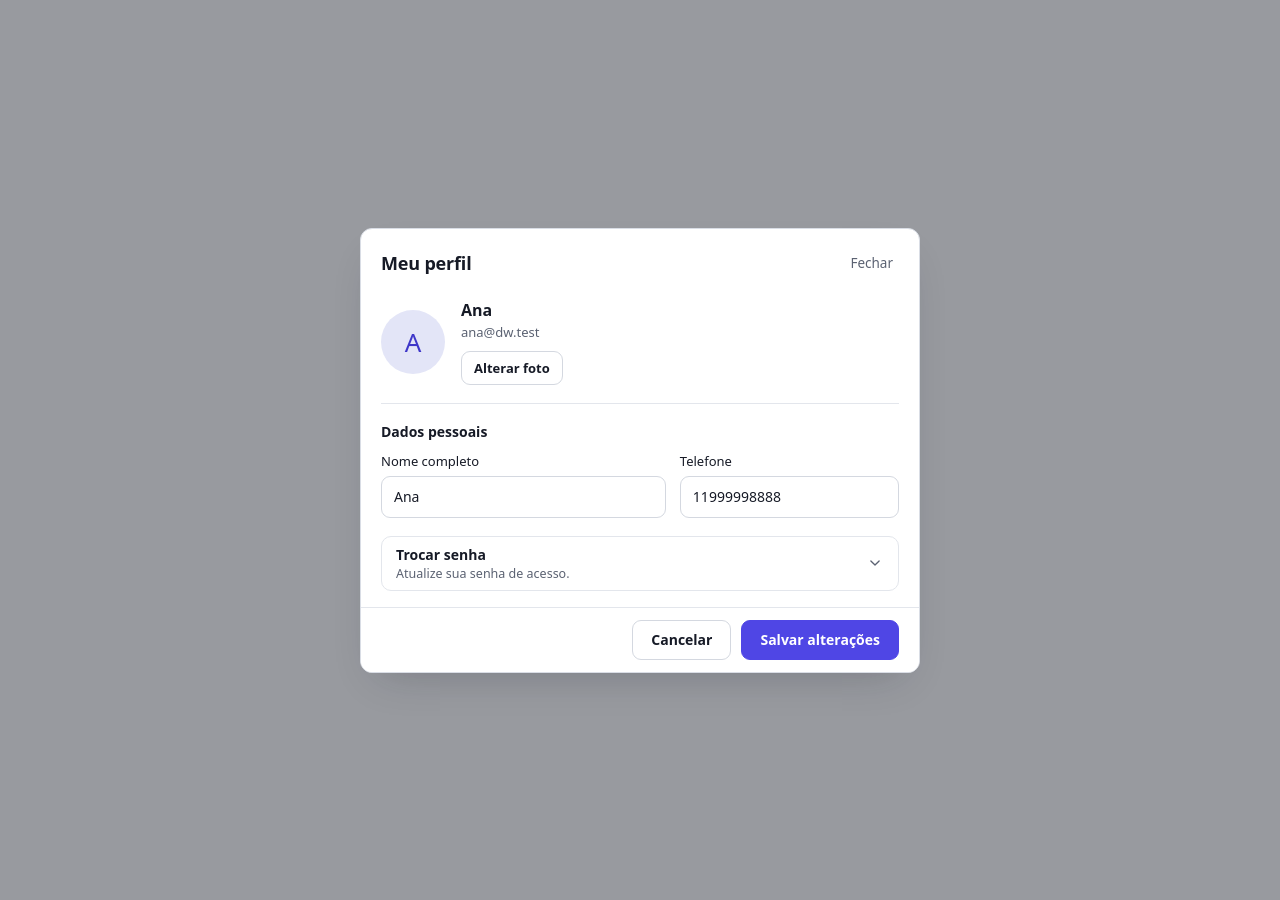
ProfileModal › shows an error when the confirmation password does not match
Expected: the field showing "Ana" is shown, [381,476,666,518]
Click the text "Atualize sua senha de acesso." at (483, 573), box [396,564,570,582]
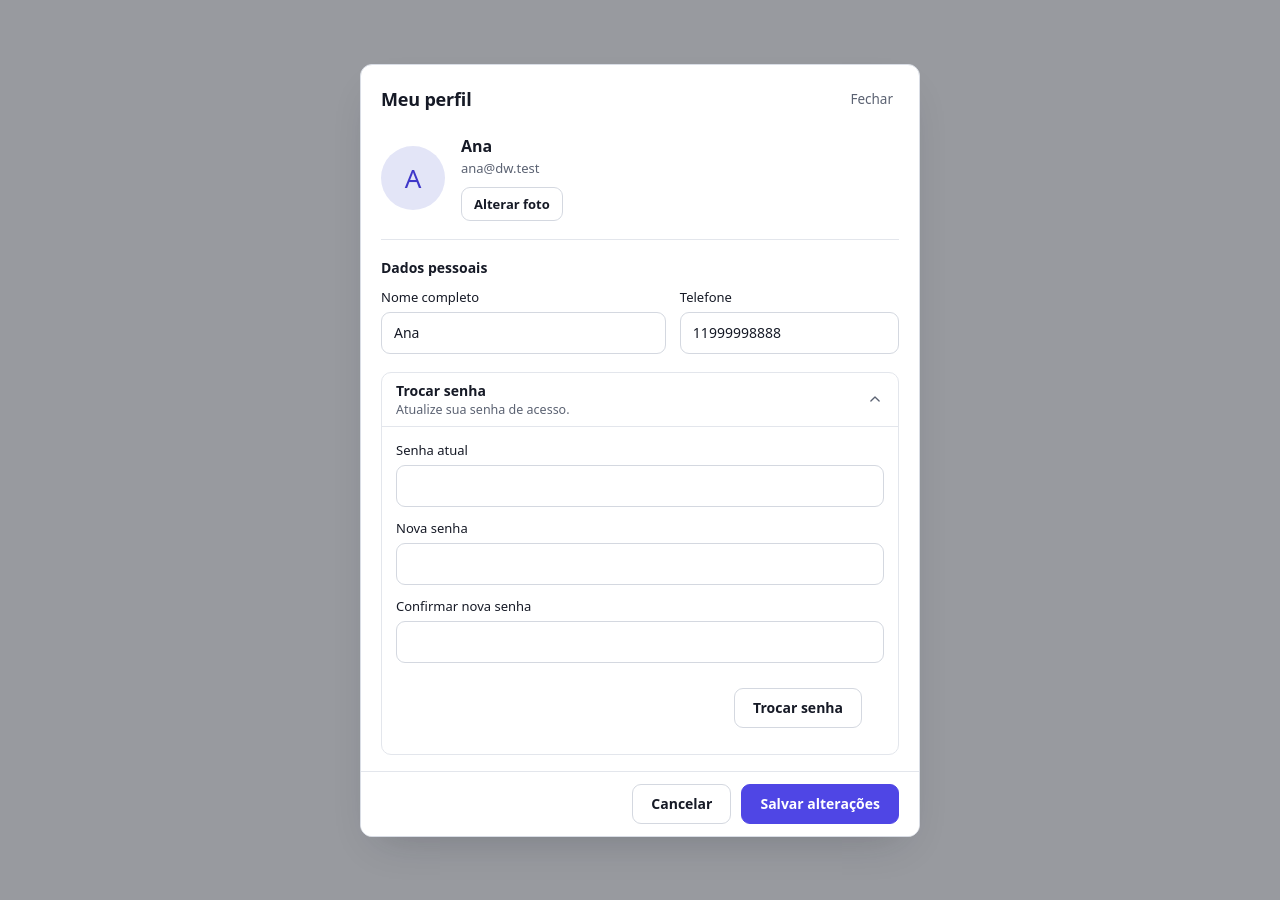
Type "oldpass123" into the password field labelled "Senha atual" at (640, 486), box [396,464,884,506]
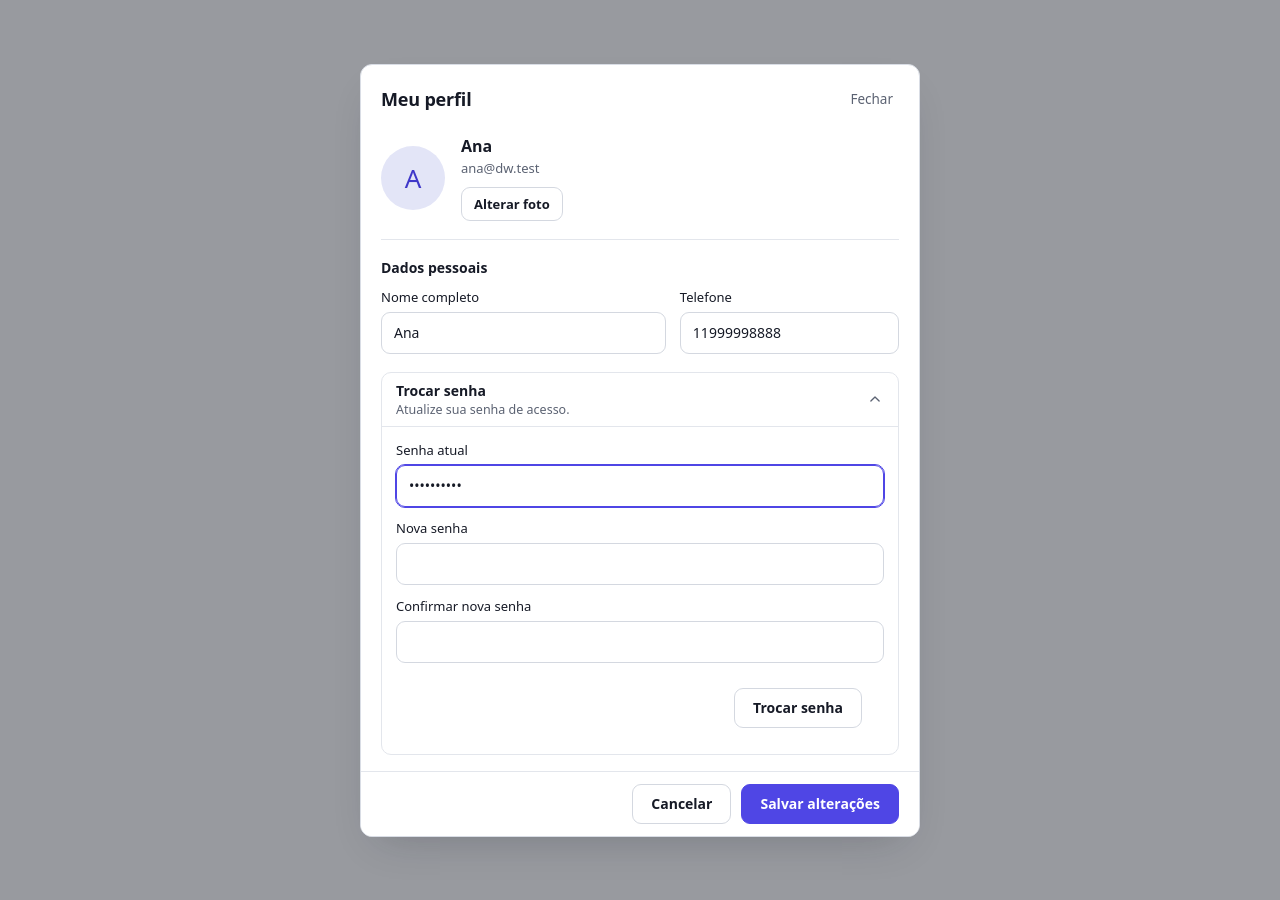
Type "newpass456" into the password field labelled "Nova senha" at (640, 564), box [396,542,884,584]
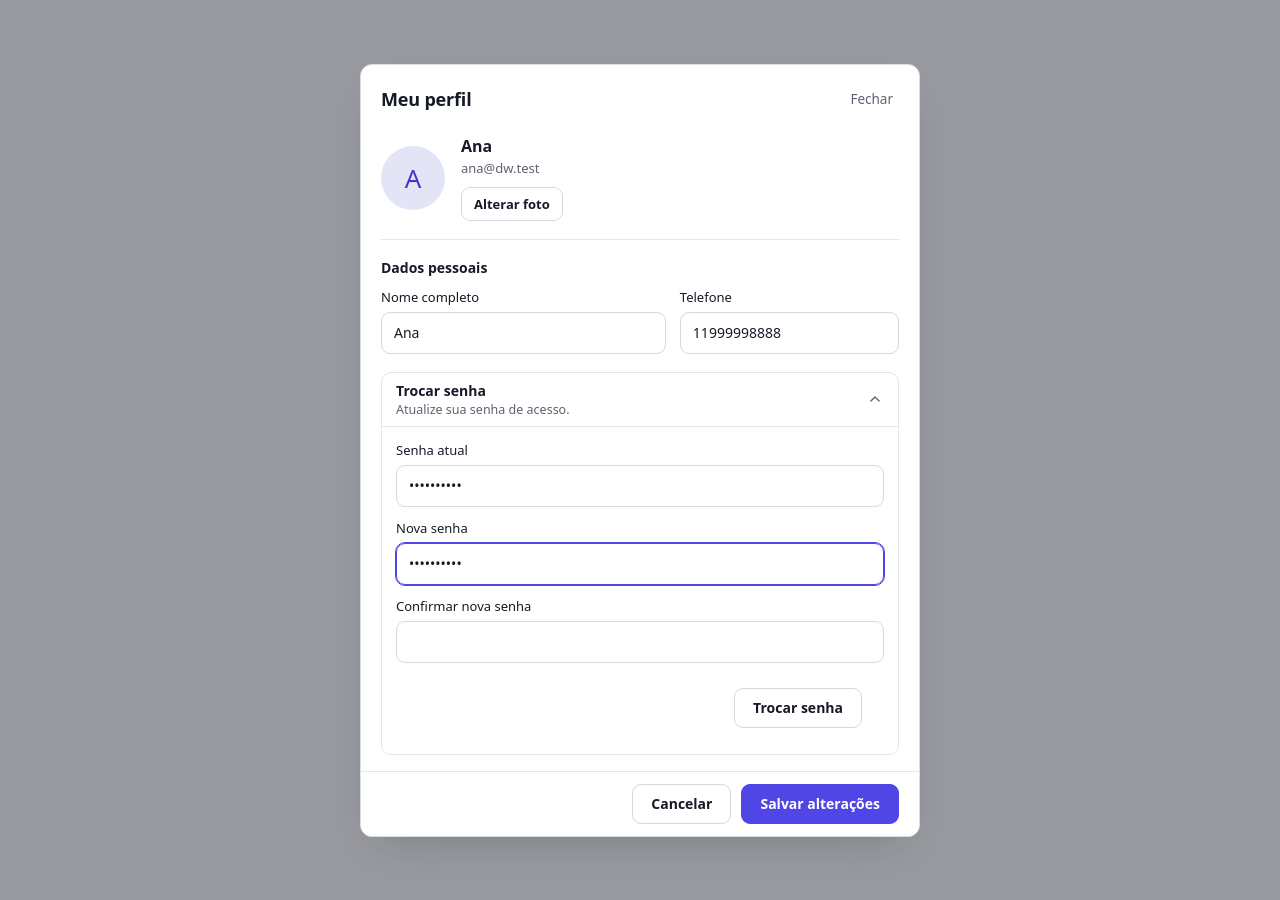
Type "somethingelse" into the password field labelled "Confirmar nova senha" at (640, 642), box [396,620,884,662]
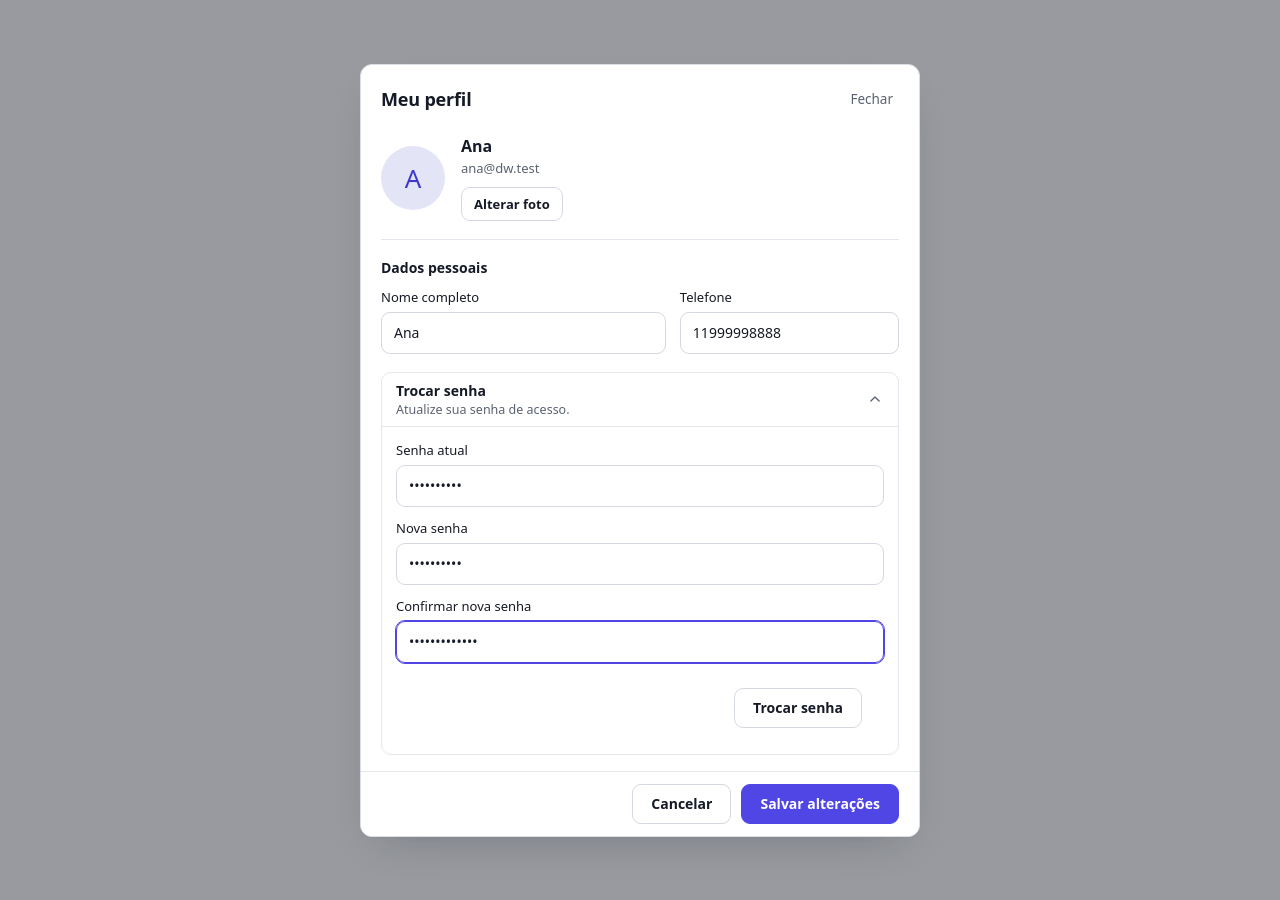
Click the button "Trocar senha" at (798, 708), box [734,688,862,728]
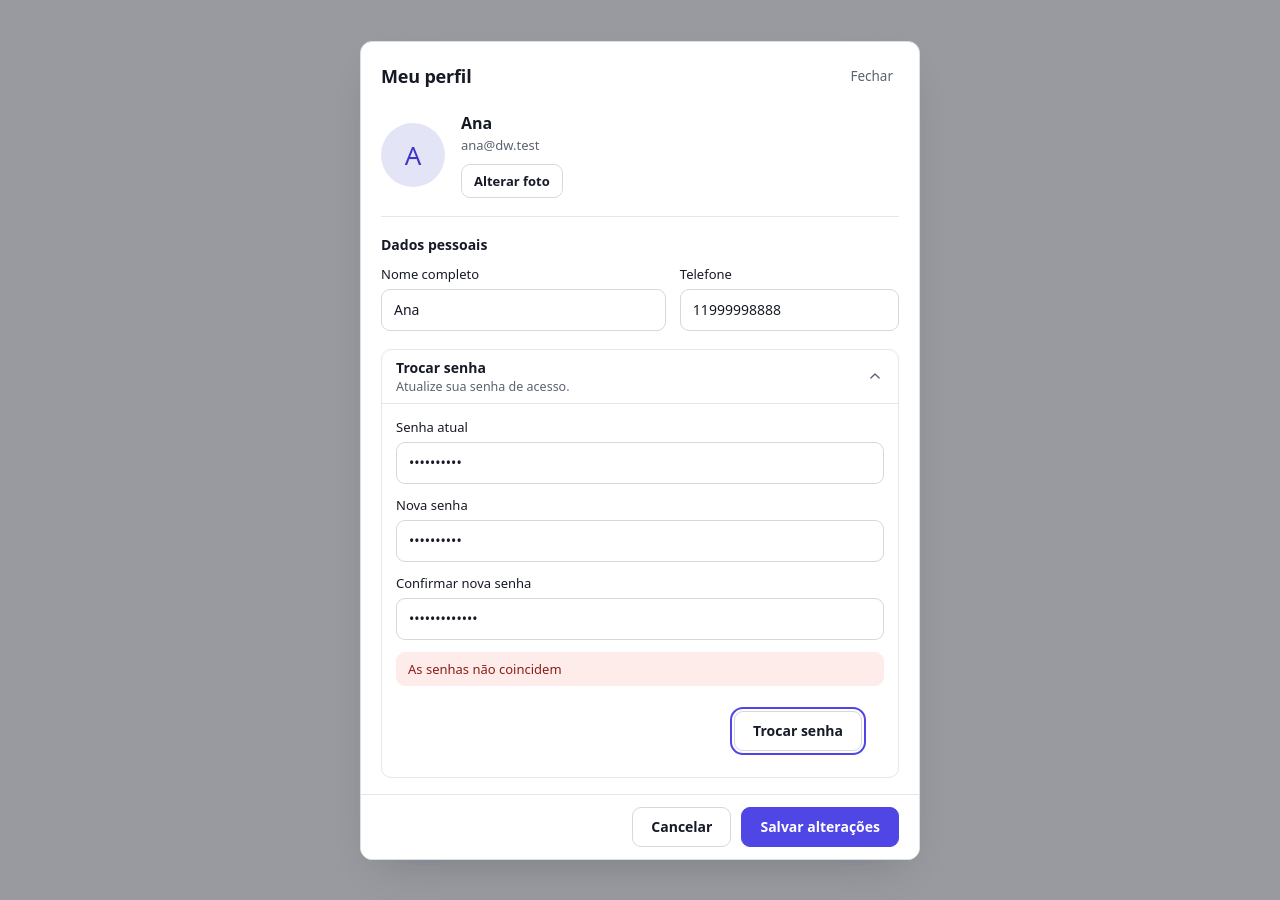
Result: the text "As senhas não coincidem" is shown at [396,652,884,686]
